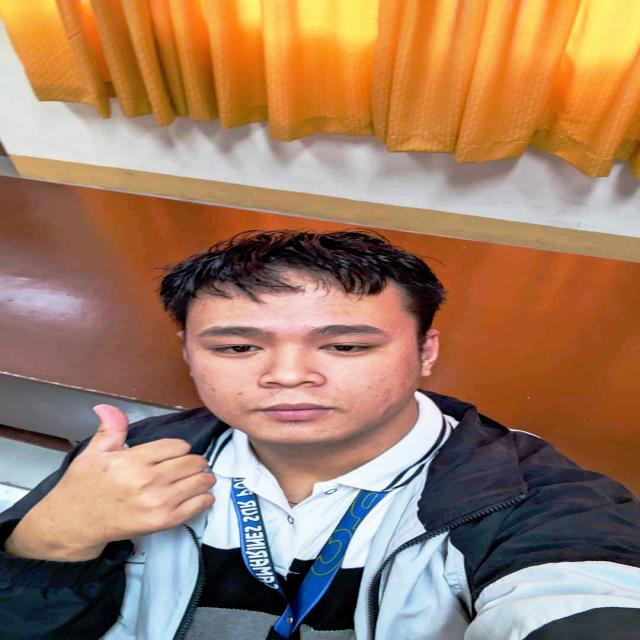thumbs_up: (46, 400, 220, 553)
